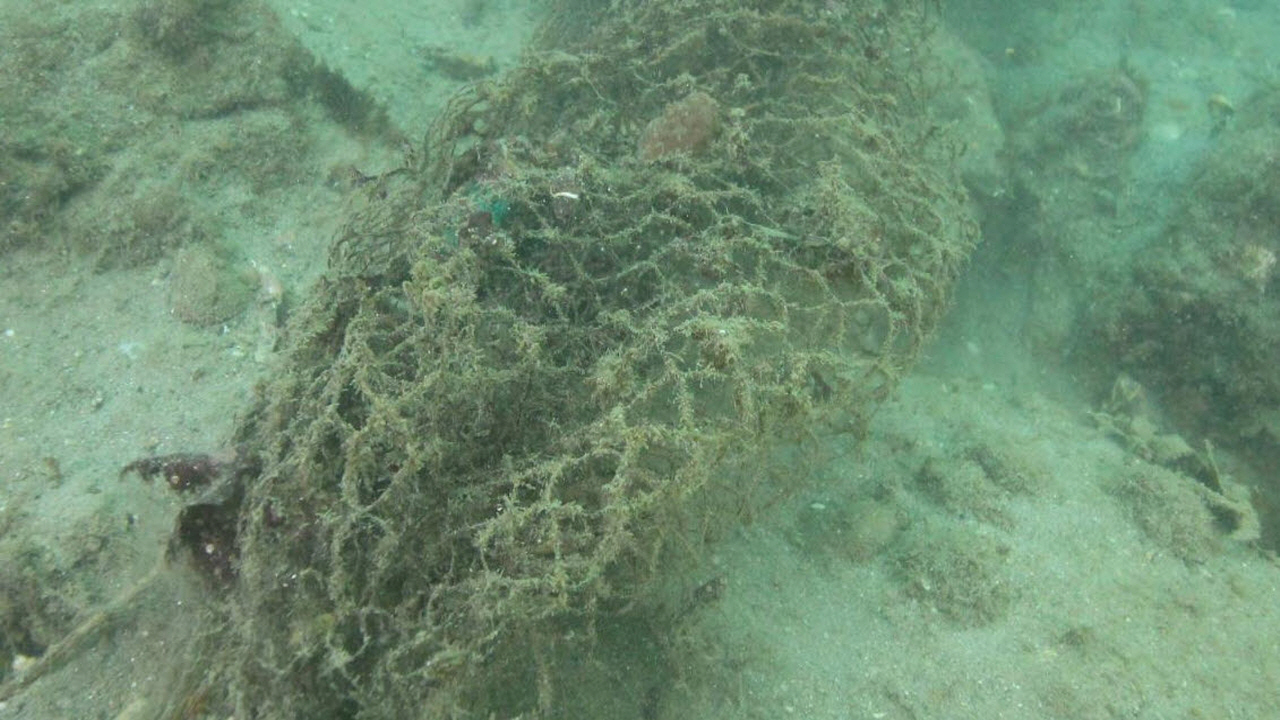fish net: (283, 34, 965, 664)
